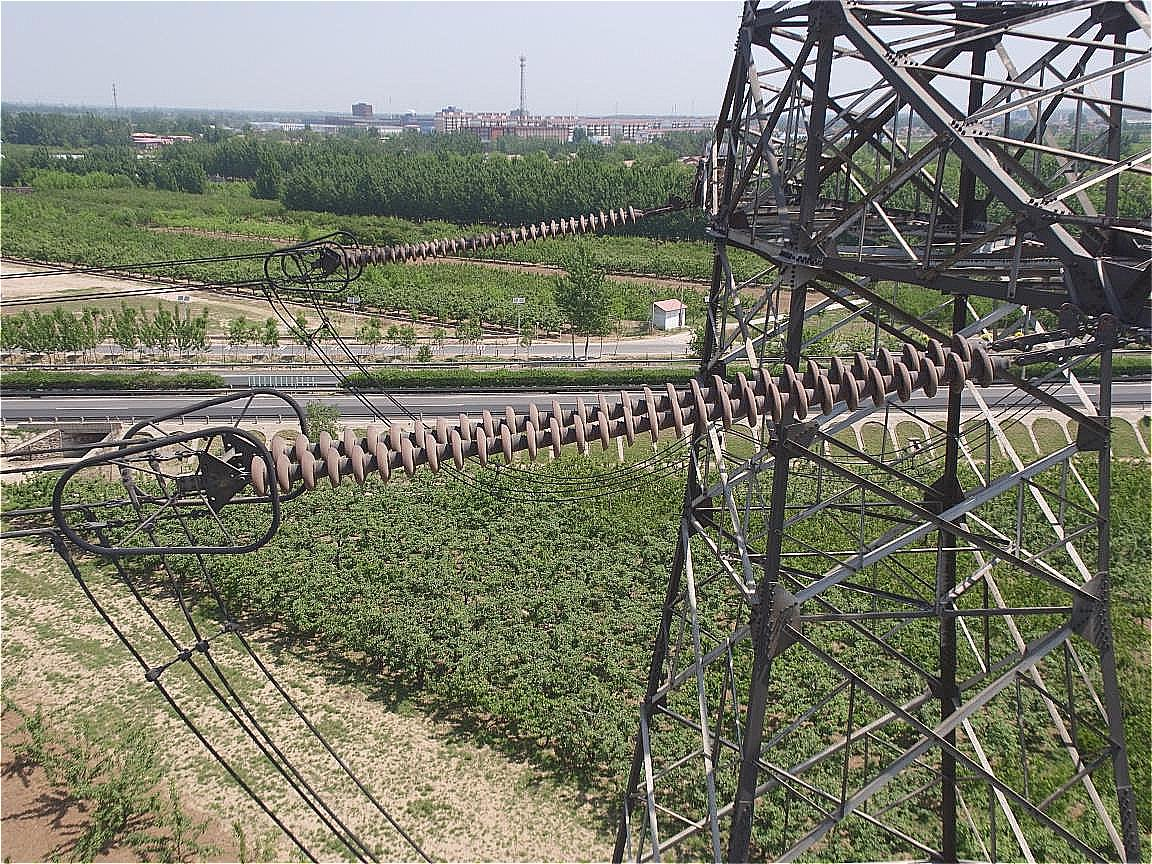insultor1: (234, 320, 1013, 510), (319, 193, 659, 289)
